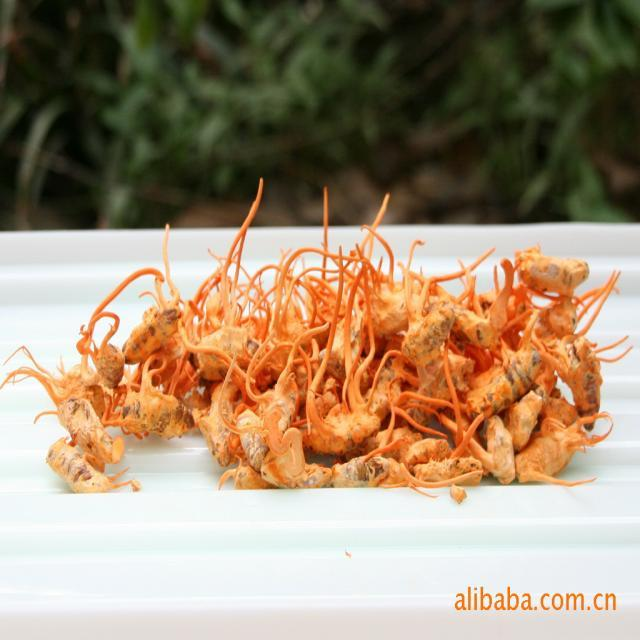Cordyceps militaris: (8, 197, 630, 490)
